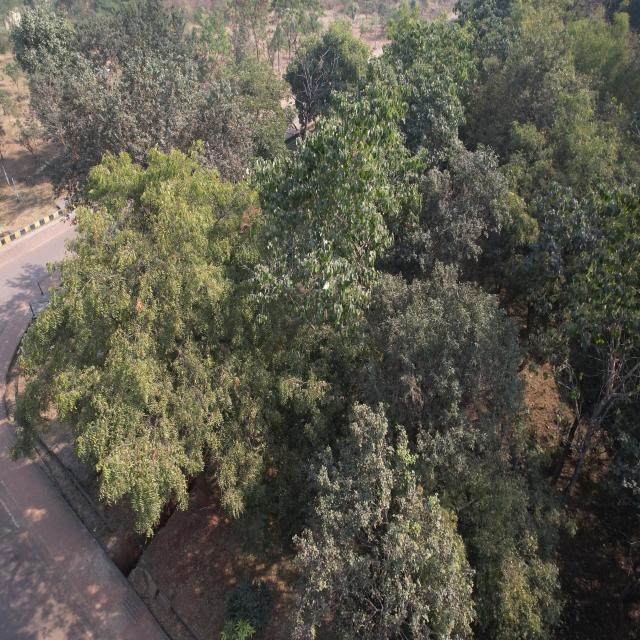Neem-Tree: (11, 154, 262, 536)
